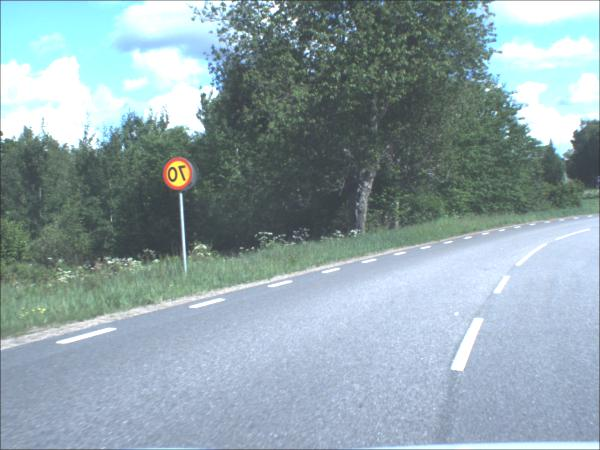70_SIGN: (163, 158, 194, 191)
